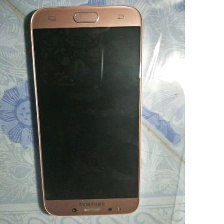phone: (26, 2, 147, 218)
